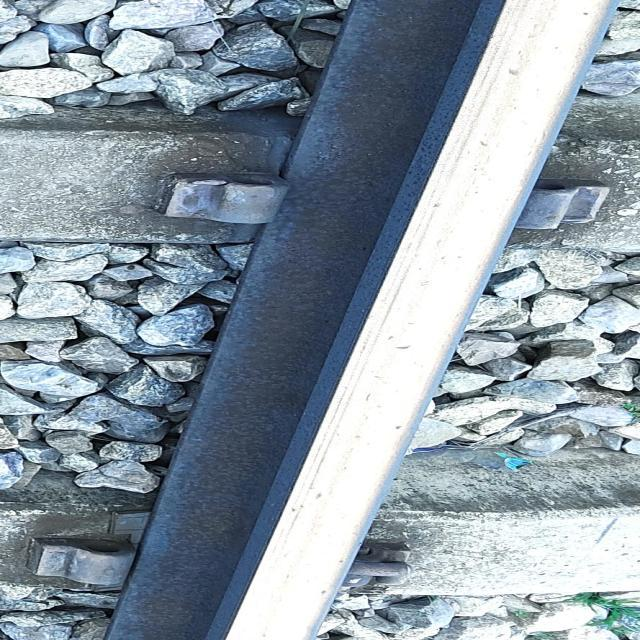Good Fasteners: (343, 543, 412, 585)
Missing Fastener: (508, 136, 639, 254), (154, 168, 340, 243), (0, 524, 163, 593)
